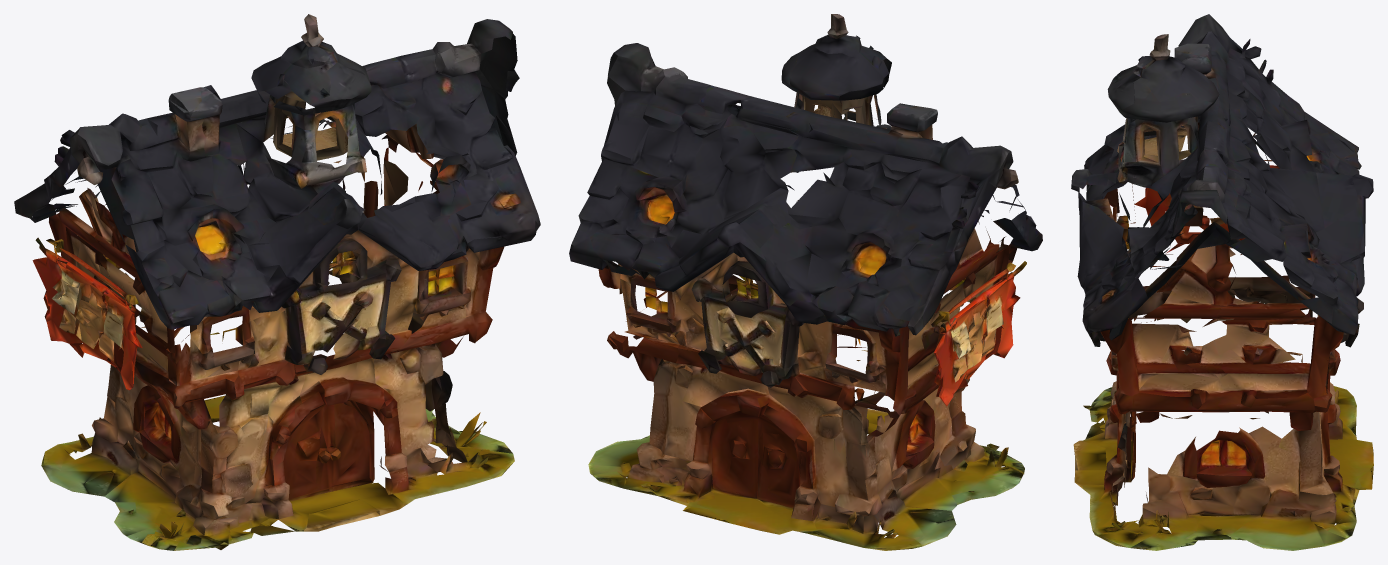
File: tripo-guilda154.glb
3 renders of one model, left to right at view 1: azimuth 30°, elevation 25°; view 2: azimuth 150°, elevation 25°; view 3: azimuth 270°, elevation 25°, orthographic. The views are drawn at different scales.
Visible parts, largest first — view 1: tripo_node_75fa2340-79bd-4d34-a48a-01d27cfaf7ba; view 2: tripo_node_75fa2340-79bd-4d34-a48a-01d27cfaf7ba; view 3: tripo_node_75fa2340-79bd-4d34-a48a-01d27cfaf7ba.
Boxes of the visible parts, <box> form: tripo_node_75fa2340-79bd-4d34-a48a-01d27cfaf7ba: <box>14,14,540,550</box>; tripo_node_75fa2340-79bd-4d34-a48a-01d27cfaf7ba: <box>569,14,1042,550</box>; tripo_node_75fa2340-79bd-4d34-a48a-01d27cfaf7ba: <box>1071,14,1373,550</box>.
Size of the model in its own units: 0.9419 by 0.9754 by 0.6186.
Materials: 1 (1 with a texture image).
